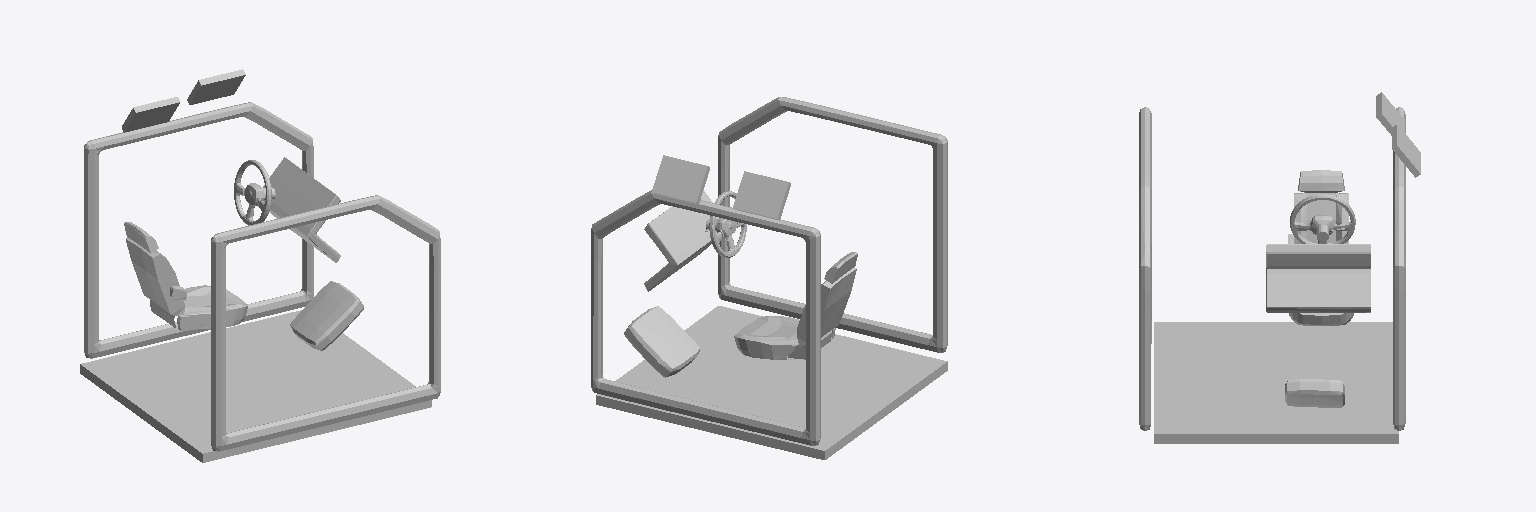
File: car.obj
3 views of the same model, side by side, from view 1: azimuth 30°, elevation 25°; view 2: azimuth 150°, elevation 25°; view 3: azimuth 270°, elevation 25° (orthographic).
Parts seen in each view (by area): view 1: 3.001, 4.001, 0.001, 5.001, 2.001, 1.001, Cube_Cube.001, Cube.001_Cube.002; view 2: 4.001, 3.001, 0.001, 2.001, 5.001, Cube.001_Cube.002, Cube_Cube.001, 1.001; view 3: 3.001, 4.001, 5.001, 0.001, 2.001, 1.001, Cube.001_Cube.002, Cube_Cube.001.
Boxes of the visible parts, x1=… form: 3.001: x1=80, y1=310, x2=431, y2=462; 4.001: x1=84, y1=102, x2=440, y2=451; 0.001: x1=124, y1=222, x2=247, y2=330; 5.001: x1=263, y1=157, x2=340, y2=262; 2.001: x1=290, y1=281, x2=363, y2=350; 1.001: x1=234, y1=160, x2=275, y2=225; Cube_Cube.001: x1=122, y1=97, x2=179, y2=132; Cube.001_Cube.002: x1=187, y1=69, x2=245, y2=104; 4.001: x1=591, y1=97, x2=947, y2=445; 3.001: x1=596, y1=306, x2=947, y2=459; 0.001: x1=734, y1=252, x2=857, y2=359; 2.001: x1=624, y1=306, x2=699, y2=377; 5.001: x1=644, y1=190, x2=718, y2=291; Cube.001_Cube.002: x1=652, y1=155, x2=709, y2=204; Cube_Cube.001: x1=733, y1=171, x2=790, y2=220; 1.001: x1=705, y1=191, x2=746, y2=257; 3.001: x1=1154, y1=322, x2=1398, y2=443; 4.001: x1=1139, y1=107, x2=1405, y2=430; 5.001: x1=1266, y1=244, x2=1370, y2=312; 0.001: x1=1288, y1=170, x2=1353, y2=325; 2.001: x1=1285, y1=379, x2=1344, y2=407; 1.001: x1=1290, y1=194, x2=1355, y2=243; Cube.001_Cube.002: x1=1392, y1=124, x2=1420, y2=177; Cube_Cube.001: x1=1376, y1=92, x2=1404, y2=135.
Bounding box in the file's own units: 1.66 × 1.81 × 1.74.